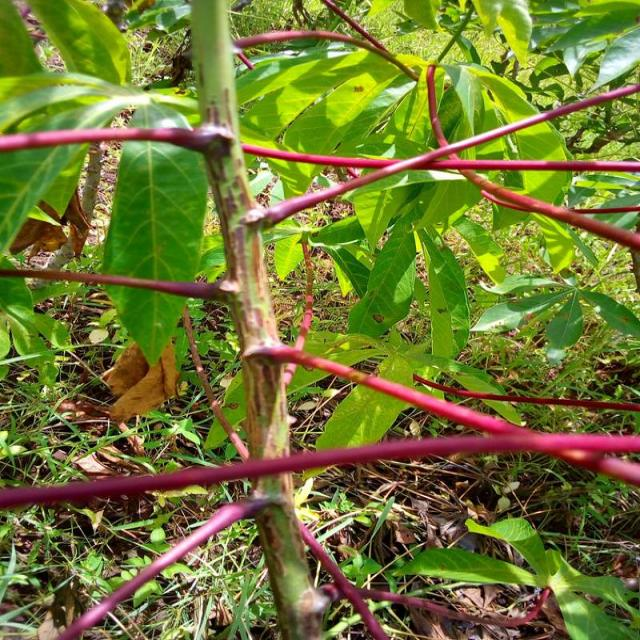cassava leaf: (100, 102, 209, 366)
